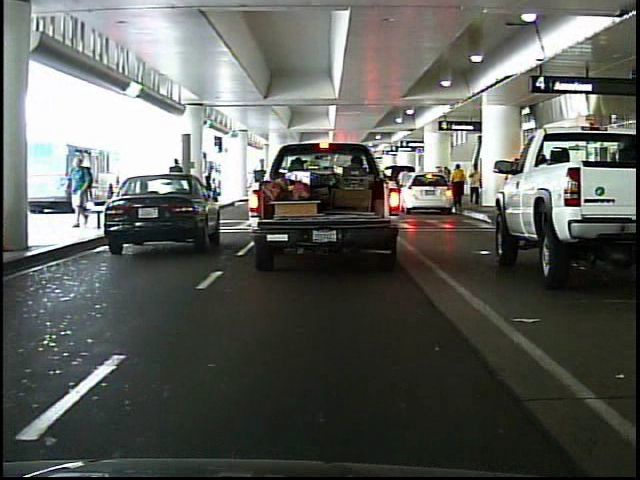person: (63, 153, 97, 231), (443, 160, 472, 220), (166, 154, 191, 213)
